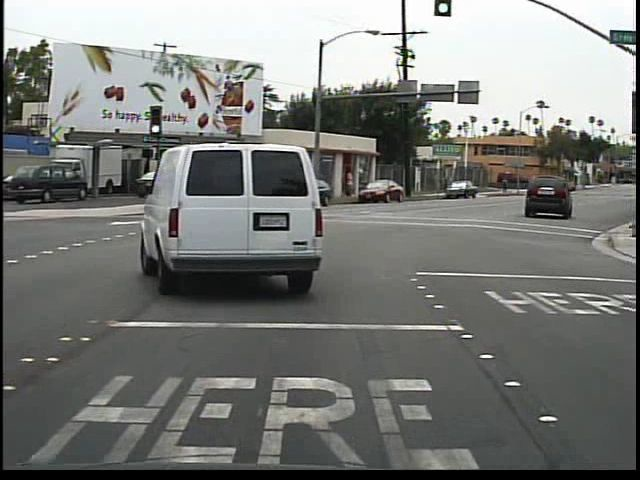person: (341, 162, 356, 199), (499, 174, 510, 195)
